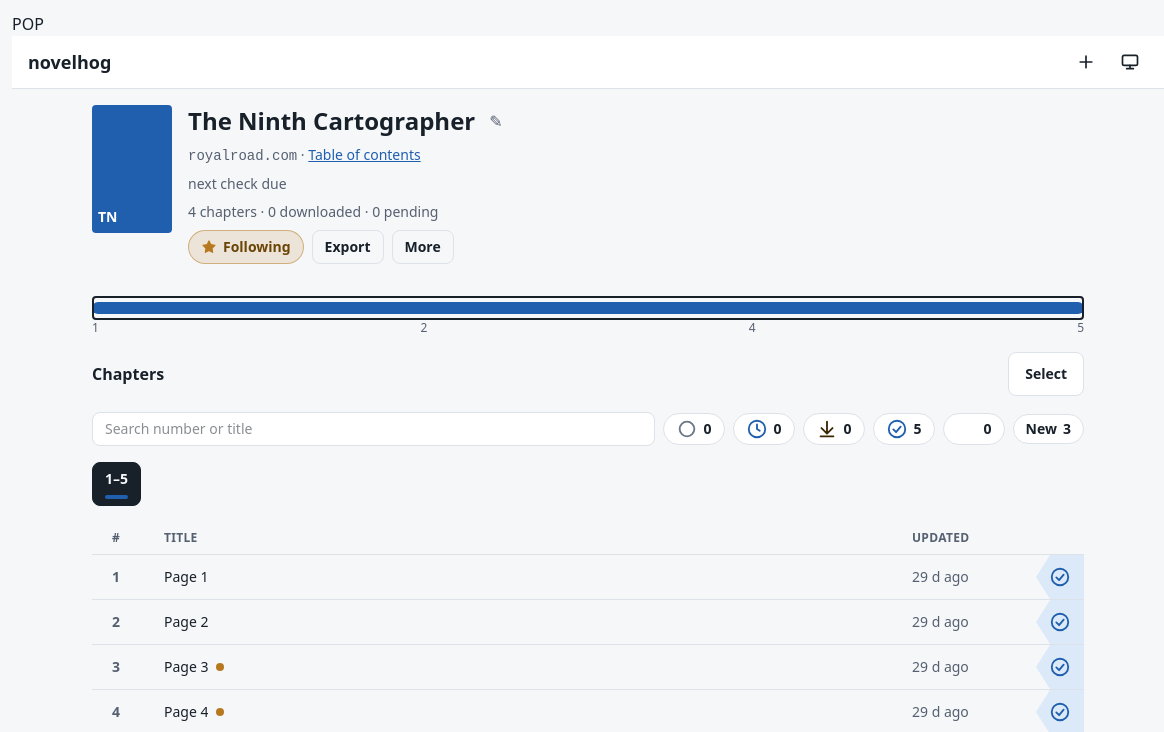
Test: Novel page (rendered through App at /novels/:id) › "New" counts a chapter released during the visit (2 new chapters at open)
This screenshot has width=1164, height=732.
Expected: the text "Page 4" is shown, 164,702 -> 208,722
Click the button "New 3": coordinates (1048, 429) 1013,414 -> 1084,444
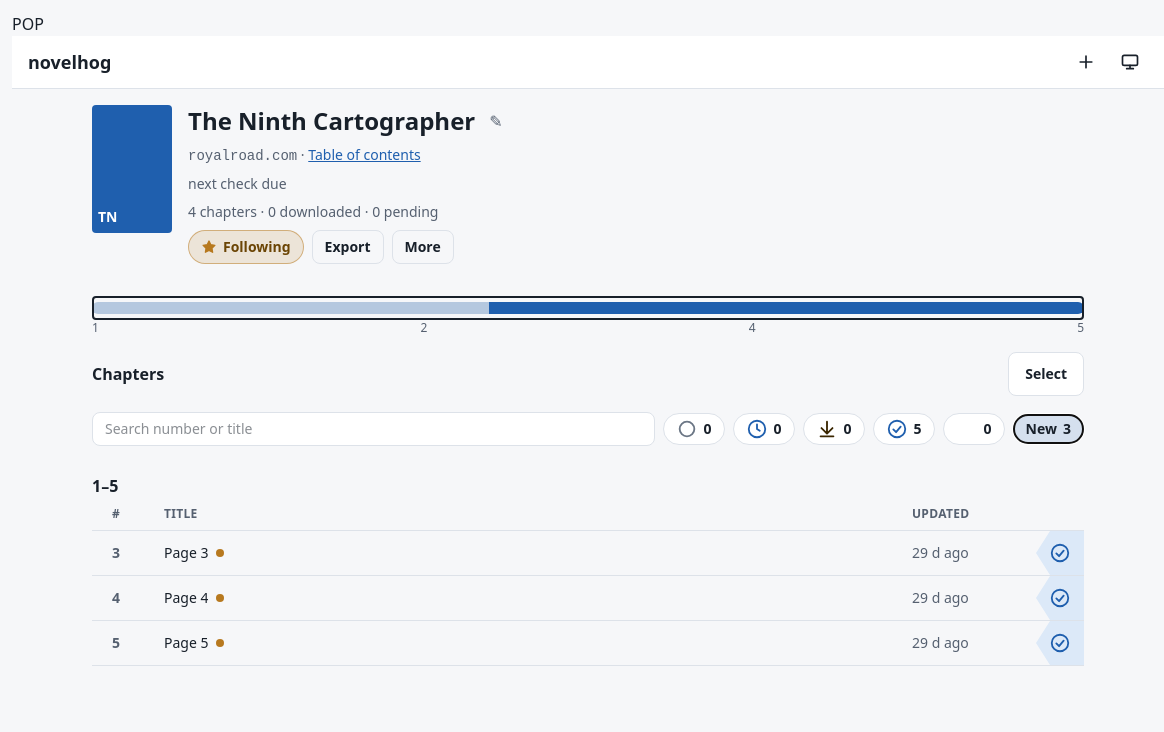
Now the number of list items is 3, box 92,531 -> 1084,576; 92,576 -> 1084,621; 92,621 -> 1084,666
